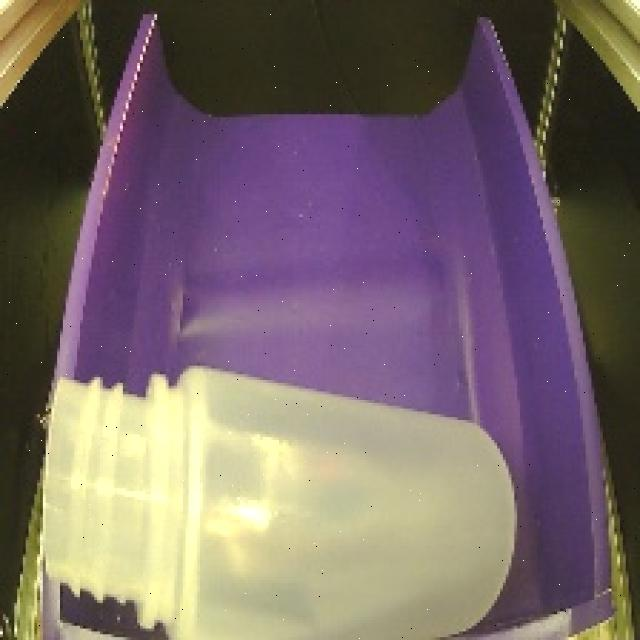plastic: (33, 343, 523, 640)
